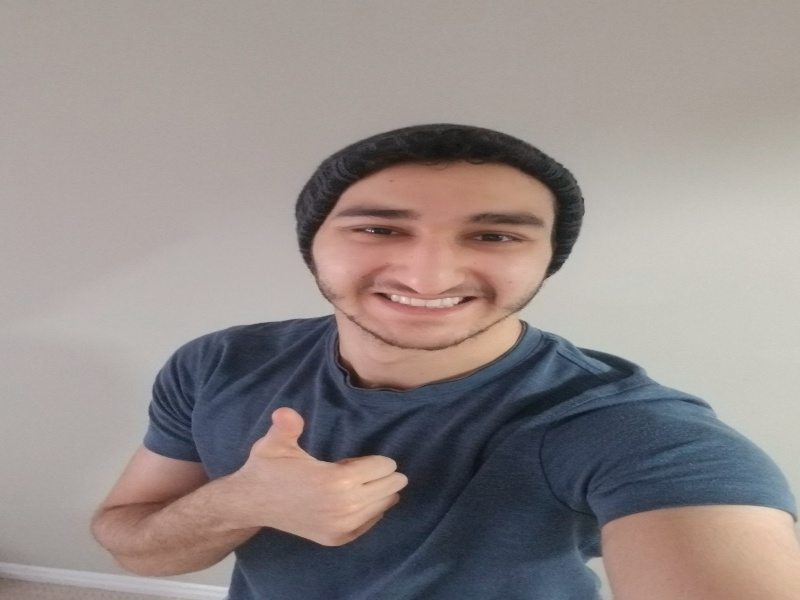smile: (320, 160, 553, 353)
thumbup: (246, 404, 408, 548)
